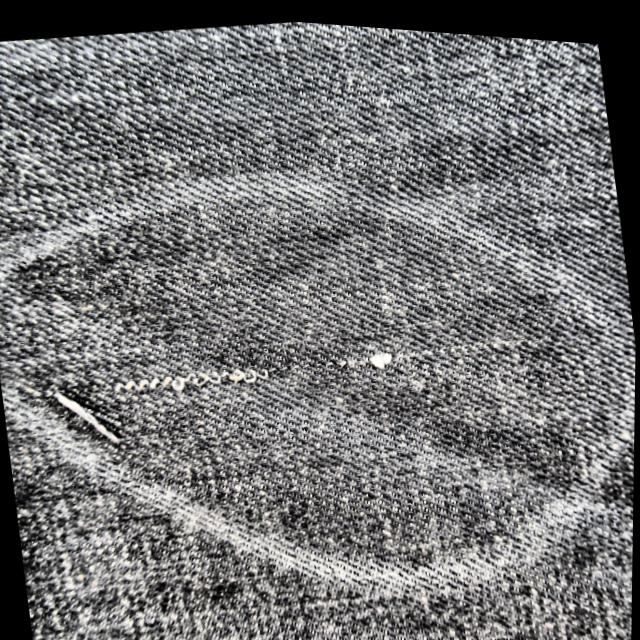Hole: (93, 290, 544, 419)
